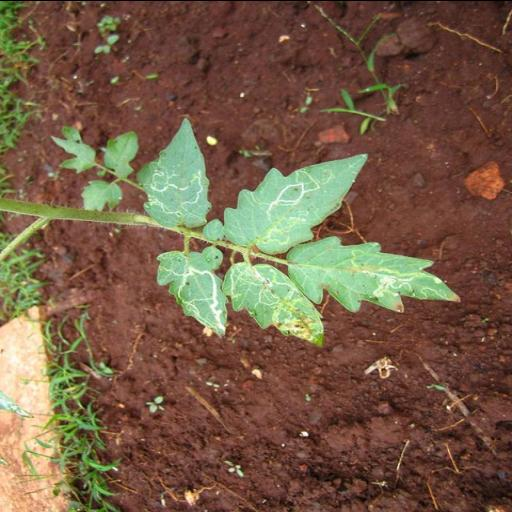Leaf Miner: (222, 152, 372, 254), (286, 234, 462, 312), (220, 260, 326, 348), (137, 117, 213, 231), (156, 248, 228, 338)
